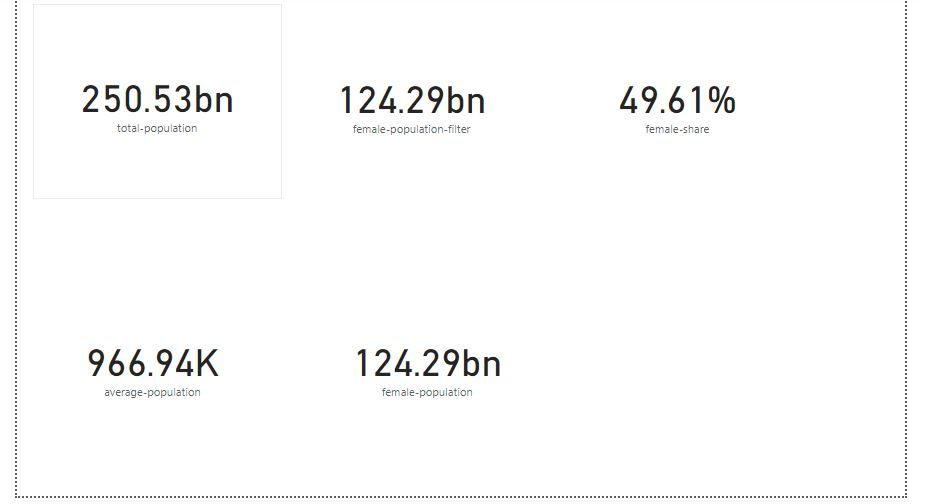

The page's visual inventory and layout, read from the dashboard file:
{"tool":"powerbi","page":{"name":"Measures","canvas":[1280,720],"ordinal":1},"visuals":[{"type":"card","fields":{"Values":["FACT-population.total-population"]},"box":[23.5,11.8,357.8,280.5],"z":0},{"type":"card","fields":{"Values":["FACT-population.average-population"]},"box":[8.4,389.7,372.9,282.2],"z":1000},{"type":"card","fields":{"Values":["FACT-population.female-population"]},"box":[381.3,11.8,372.9,282.2],"z":2000},{"type":"card","fields":{"Values":["FACT-population.female-population"]},"box":[381.3,389.7,418.3,282.2],"z":3000},{"type":"card","fields":{"Values":["FACT-population.female-share"]},"box":[764,12,373,282],"z":4000}]}

Visuals, with their boxes on the page's 1280x720 design canvas (x1, y1, x2, y2). These are canvas units, not pixel positions in the 925x504 screenshot, which may show the page scaled, cropped or inside an application window:
card - FACT-population.total-population: box(24, 12, 381, 292)
card - FACT-population.average-population: box(8, 390, 381, 672)
card - FACT-population.female-population: box(381, 12, 754, 294)
card - FACT-population.female-population: box(381, 390, 800, 672)
card - FACT-population.female-share: box(764, 12, 1137, 294)
